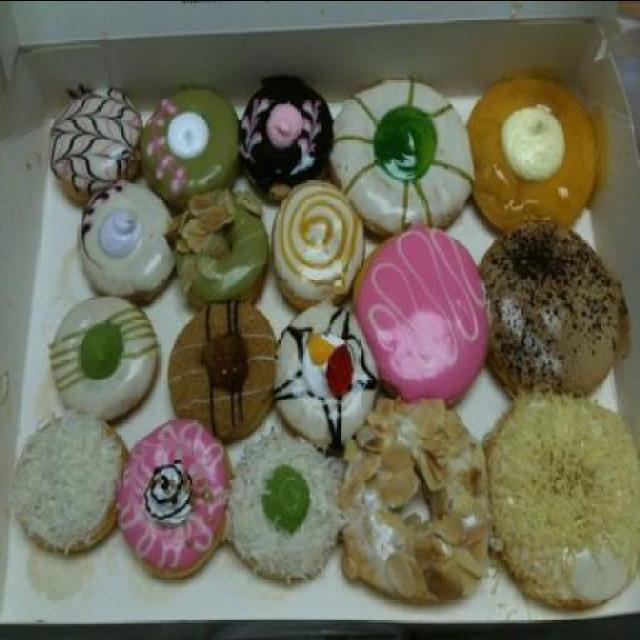Donuts: (7, 58, 639, 607)
